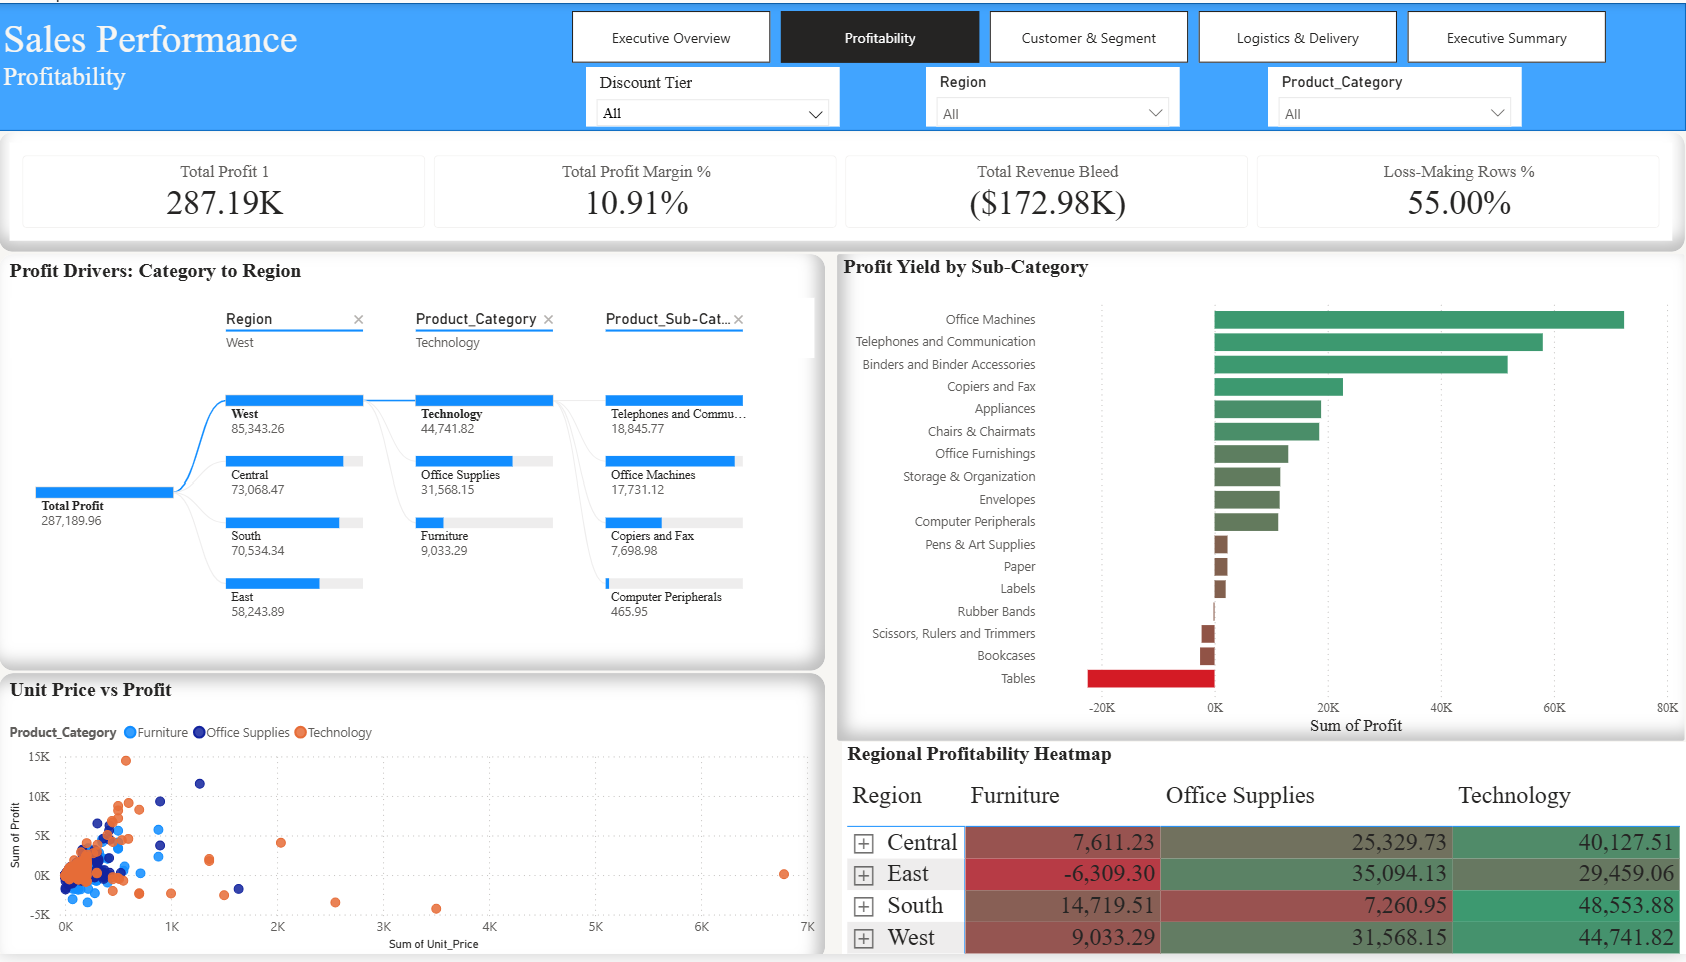

The page's visual inventory and layout, read from the dashboard file:
{"tool":"powerbi","page":{"name":"Profitability","canvas":[1600,900],"ordinal":1},"visuals":[{"type":"shape","box":[0,0,1600,121.3],"z":0},{"type":"cardVisual","fields":{"Data":["Working Sheet.Total Profit 1","Working Sheet.Total Profit Margin %","Working Sheet.Total Revenue Bleed","Working Sheet.% Loss-Making Rows 1"]},"box":[0,121.3,1600,115.6],"z":1000},{"type":"pivotTable","title":"Regional Profitability Heatmap","fields":{"Columns":["Working Sheet.Product_Category"],"Rows":["Working Sheet.Region","Working Sheet.Order_Date.Variation.Date Hierarchy.Year"],"Values":["Sum(Working Sheet.Profit)"]},"box":[800,699.5,800,206.6],"z":2000},{"type":"clusteredBarChart","title":"Profit Yield by Sub-Category","fields":{"Category":["sales.Product_Sub-Category"],"Y":["Sum(Working Sheet.Profit)"]},"box":[794.3,237,805.7,462.6],"z":3000},{"type":"slicer","fields":{"Values":["Working Sheet.Product_Category"]},"box":[1202.9,60.6,240.6,56.7],"z":4000},{"type":"slicer","fields":{"Values":["Working Sheet.Discount Tier "]},"box":[557.5,60.6,240.6,56.7],"z":5000},{"type":"decompositionTreeVisual","title":"Profit Drivers: Category to Region","fields":{"Analyze":["Sum(Working Sheet.Profit)"],"ExplainBy":["Working Sheet.Region","Working Sheet.Product_Category","Working Sheet.Product_Sub-Category"]},"box":[0,237,784.8,396.2],"z":6000},{"type":"textbox","box":[0,7.1,508.9,111.2],"z":7000},{"type":"pageNavigator","box":[543.8,7.8,982,49.3],"z":8000},{"type":"slicer","fields":{"Values":["sales.Region"]},"box":[880.2,60.6,240.6,56.7],"z":9000},{"type":"scatterChart","title":"Unit Price vs Profit","fields":{"Category":["Working Sheet.Sales"],"Series":["Working Sheet.Product_Category"],"X":["Sum(Working Sheet.Unit_Price)"],"Y":["Sum(Working Sheet.Profit)"]},"box":[0,633.2,784.8,274.9],"z":10000}]}

Visuals, with their boxes in screenshot pixels (x1, y1, x2, y2), scaled from the page's 1600x900 canvas onto the 1686x962 screenshot:
shape: <region>0, 0, 1685, 130</region>
cardVisual - Working Sheet.Total Profit 1 x Working Sheet.Total Profit Margin %: <region>0, 130, 1685, 253</region>
"Regional Profitability Heatmap" pivotTable: <region>843, 748, 1685, 961</region>
"Profit Yield by Sub-Category" clusteredBarChart: <region>837, 253, 1685, 748</region>
slicer - Working Sheet.Product_Category: <region>1268, 65, 1521, 125</region>
slicer - Working Sheet.Discount Tier : <region>587, 65, 841, 125</region>
"Profit Drivers: Category to Region" decompositionTreeVisual: <region>0, 253, 827, 677</region>
textbox: <region>0, 8, 536, 126</region>
pageNavigator: <region>573, 8, 1608, 61</region>
slicer - sales.Region: <region>928, 65, 1181, 125</region>
"Unit Price vs Profit" scatterChart: <region>0, 677, 827, 961</region>
